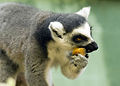cat: (1, 0, 119, 84)
